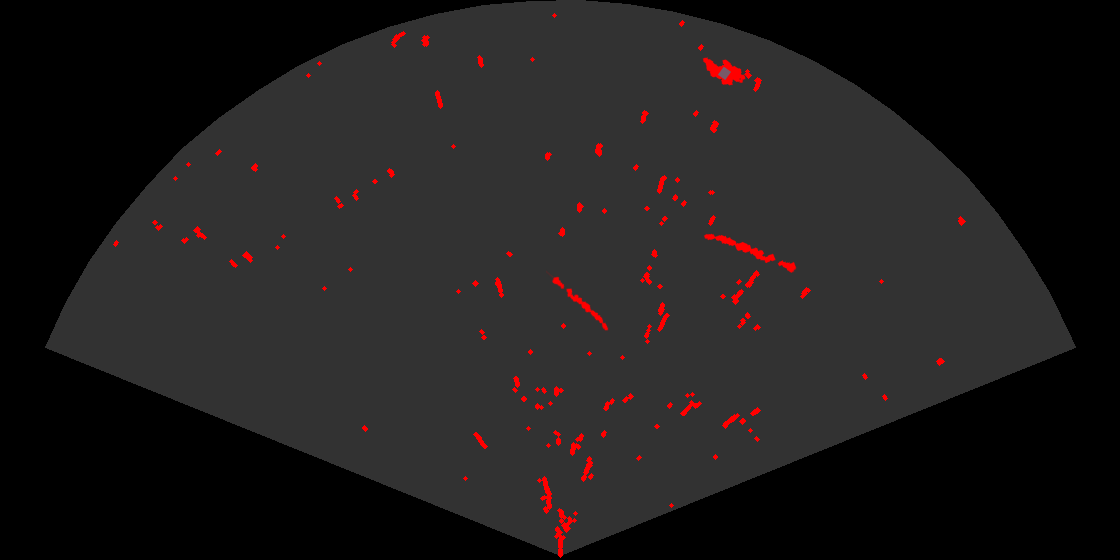AUV: (701, 56, 747, 87)
chain: (703, 232, 799, 274), (546, 269, 610, 332)
